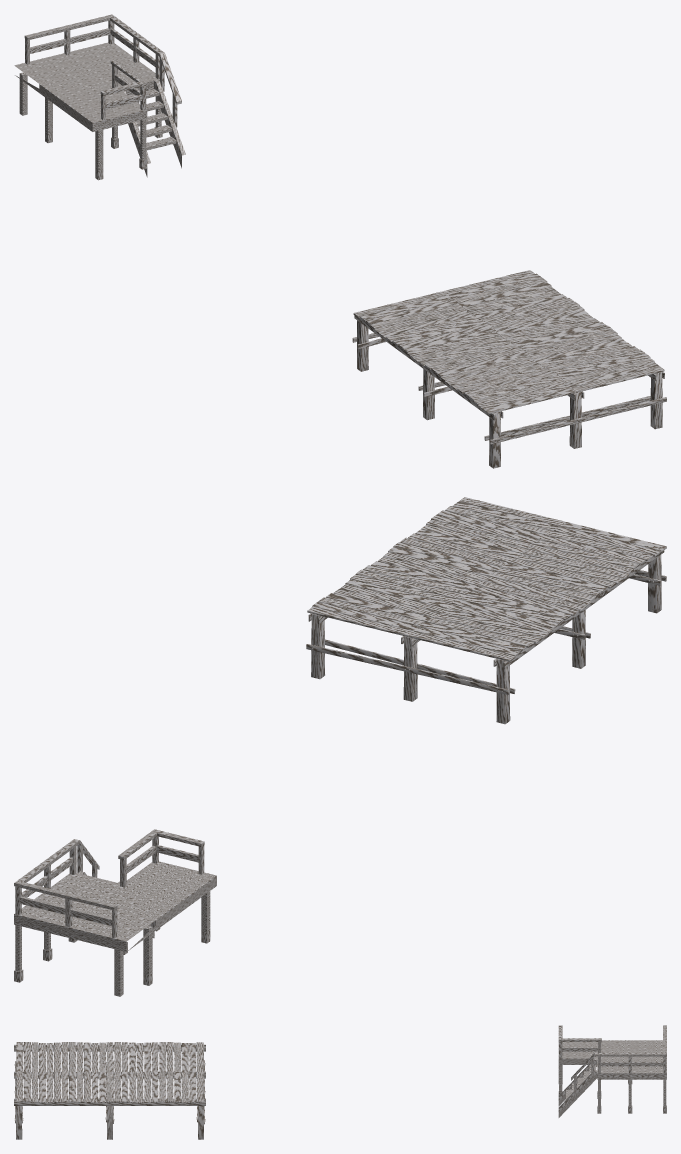
The model's file is stairs.glb.
The picture shows the model from 3 angles, top to bottom: view 1: azimuth 30°, elevation 25°; view 2: azimuth 150°, elevation 25°; view 3: azimuth 270°, elevation 25°; orthographic projection. The views are drawn at different scales.
Visible parts, largest first — view 1: Wooden Platforms_0, StairsPlatform.Backroom; view 2: Wooden Platforms_0, StairsPlatform.Backroom; view 3: Wooden Platforms_0, StairsPlatform.Backroom.
Part boxes in pixels (left/top/right/bottom): Wooden Platforms_0: left=352, top=270, right=666, bottom=468; StairsPlatform.Backroom: left=14, top=14, right=185, bottom=180; Wooden Platforms_0: left=306, top=497, right=666, bottom=724; StairsPlatform.Backroom: left=14, top=829, right=216, bottom=996; Wooden Platforms_0: left=14, top=1042, right=205, bottom=1139; StairsPlatform.Backroom: left=558, top=1025, right=666, bottom=1117.
Size of the model in its own units: 6.19 by 3.12 by 28.18.
Materials: 1 (1 with a texture image).
